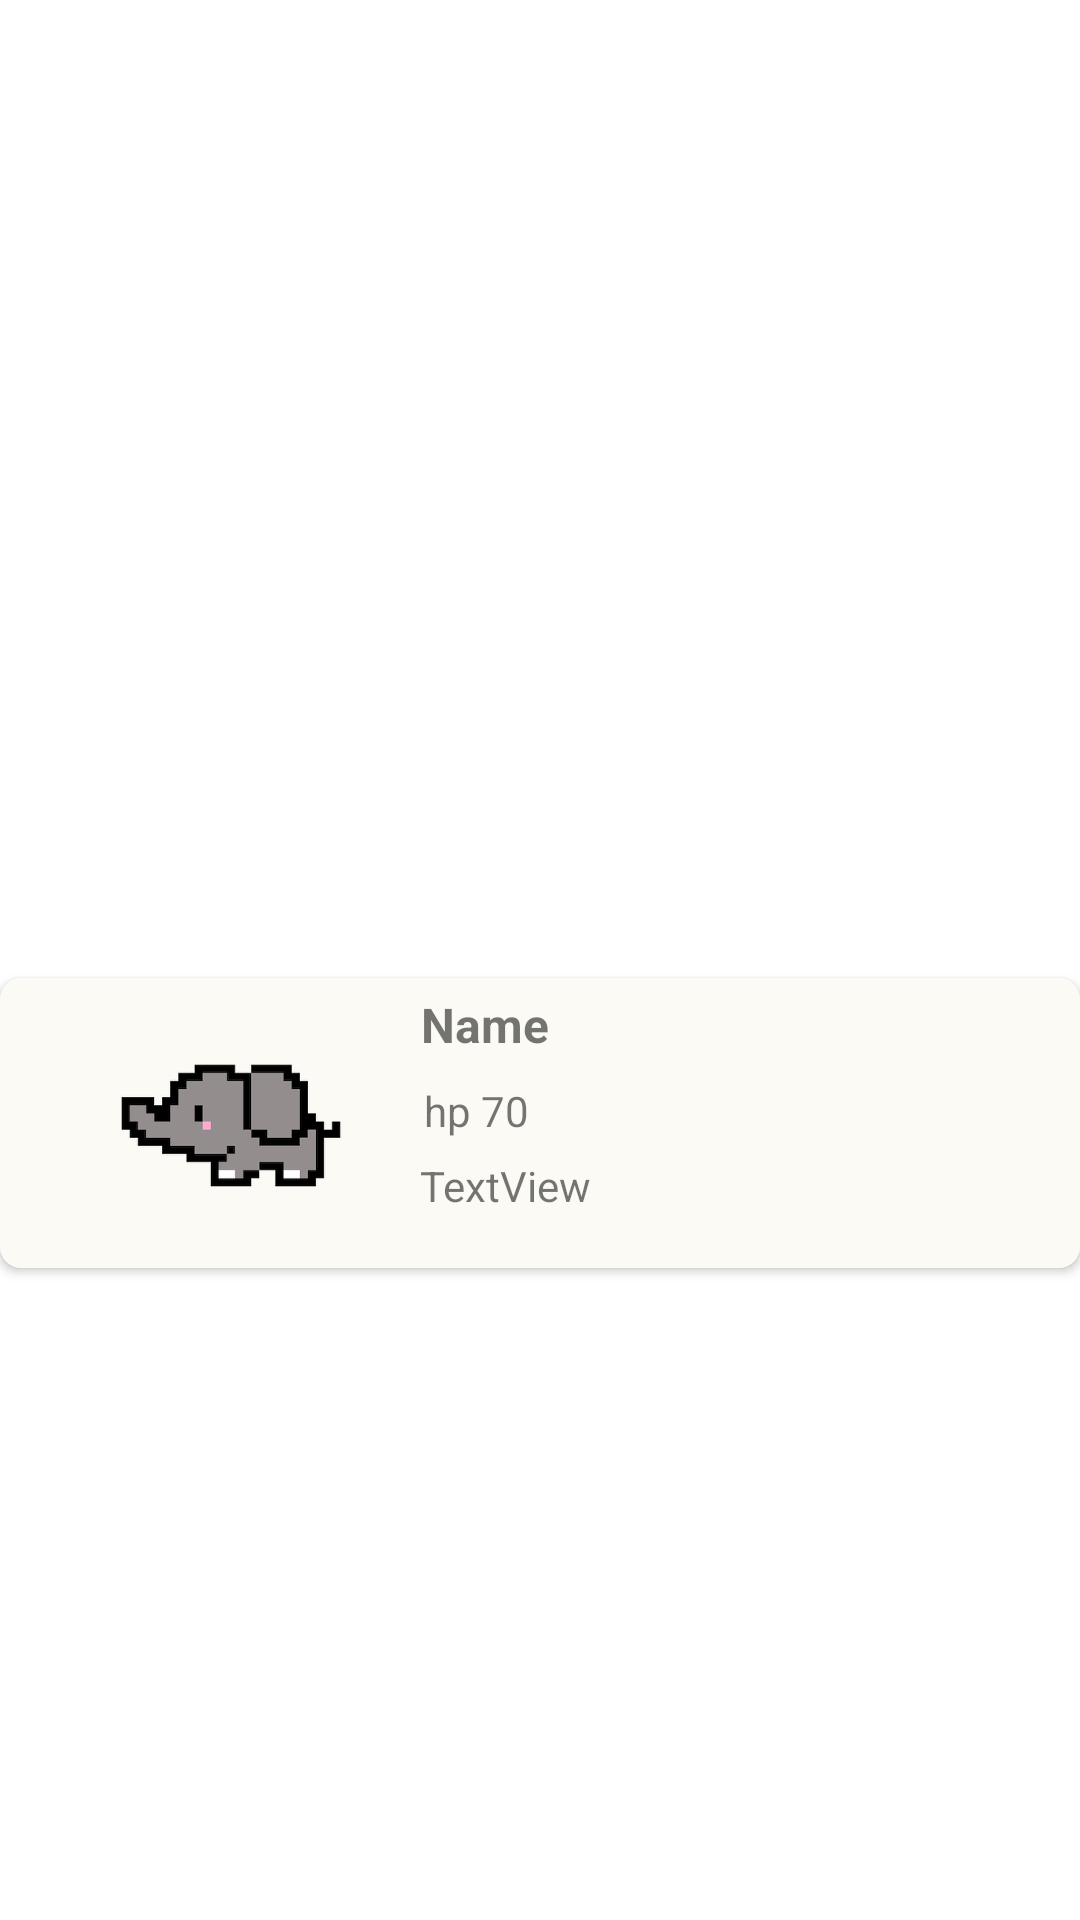

Where icons sit on this 1080×1920 app screen, as (x1=x1, y1=y1, x2=x2, y2=y2):
elephant: (x1=121, y1=1064, x2=341, y2=1187)
